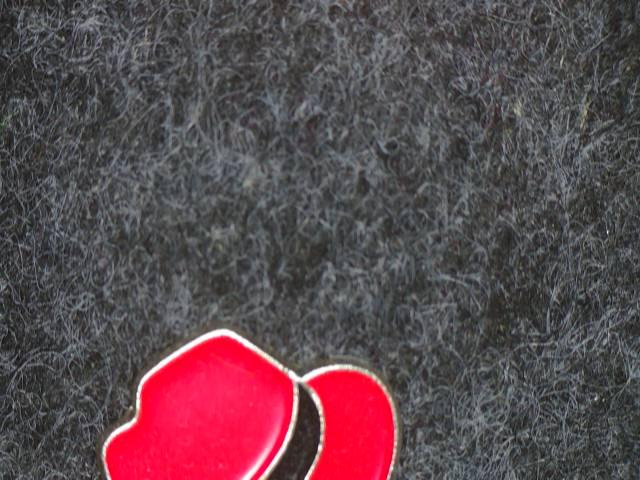Red-Hat: (59, 314, 443, 480)
